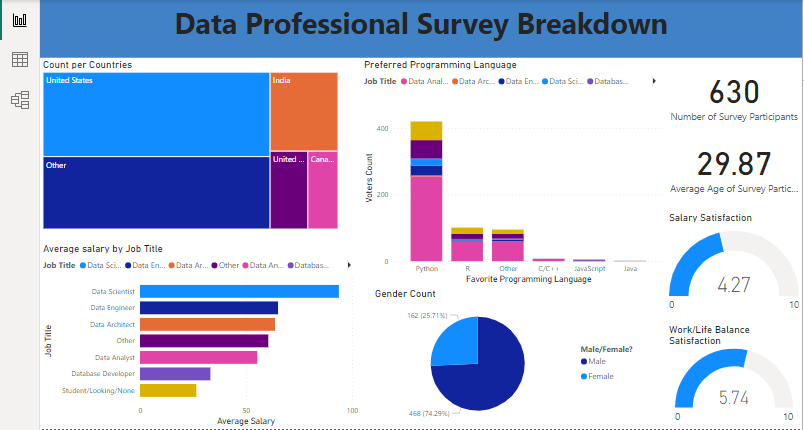

The page's visual inventory and layout, read from the dashboard file:
{"tool":"powerbi","page":{"name":"Page 1","canvas":[1280,720],"ordinal":0},"visuals":[{"type":"textbox","box":[0,0,1280,97.4],"z":0},{"type":"card","fields":{"Values":["Count(Data Professional Survey.Unique ID)"]},"box":[1051.5,97.4,228.5,120.9],"z":1000},{"type":"card","fields":{"Values":["Avg(Data Professional Survey.Q10 - Current Age)"]},"box":[1051.5,218.4,228.5,120.9],"z":2000},{"type":"barChart","title":"Average salary by Job Title","fields":{"Category":["Data Professional Survey.Q1 - Which Title Best Fits your Current Role?.1"],"Y":["Avg(Data Professional Survey.Average Salary)"],"Series":["Data Professional Survey.Q1 - Which Title Best Fits your Current Role?.1"]},"box":[0,406.5,539.2,314.1],"z":3000},{"type":"columnChart","title":"Preferred Programming Language","fields":{"Category":["Data Professional Survey.Q5 - Favorite Programming Language.1"],"Y":["CountNonNull(Data Professional Survey.Unique ID)"],"Series":["Data Professional Survey.Q1 - Which Title Best Fits your Current Role?.1"]},"box":[539.2,97.4,512.3,384.7],"z":4000},{"type":"treemap","title":"Count per Countries","fields":{"Values":["CountNonNull(Data Professional Survey.Q11 - Which Country do you live in?.1)"],"Group":["Data Professional Survey.Q11 - Which Country do you live in?.1"]},"box":[0,97.4,505.6,292.3],"z":5000},{"type":"gauge","title":"Work/Life Balance Satisfaction","fields":{"Y":["Avg(Data Professional Survey.Q6 - How Happy are you in your Current Position with the following? (Work/Life Balance))"],"MinValue":["Min(Data Professional Survey.Q6 - How Happy are you in your Current Position with the following? (Work/Life Balance))"],"MaxValue":["Max(Data Professional Survey.Q6 - How Happy are you in your Current Position with the following? (Work/Life Balance))"]},"box":[1051.5,542.6,228.5,178.1],"z":6000},{"type":"gauge","title":"Salary Satisfaction","fields":{"Y":["Avg(Data Professional Survey.Q6 - How Happy are you in your Current Position with the following? (Salary))"],"MinValue":["Min(Data Professional Survey.Q6 - How Happy are you in your Current Position with the following? (Salary))"],"MaxValue":["Max(Data Professional Survey.Q6 - How Happy are you in your Current Position with the following? (Salary))"]},"box":[1051.5,354.4,228.5,188.1],"z":7000},{"type":"pieChart","title":"Gender Count","fields":{"Category":["Data Professional Survey.Q9 - Male/Female?"],"Y":["Count(Data Professional Survey.Unique ID)"]},"box":[557.7,482.1,460.3,238.5],"z":8000}]}

Visuals, with their boxes on the page's 1280x720 design canvas (x1, y1, x2, y2). These are canvas units, not pixel positions in the 804x430 screenshot, which may show the page scaled, cropped or inside an application window:
textbox: region(0, 0, 1280, 97)
card - Count(Data Professional Survey.Unique ID): region(1052, 97, 1280, 218)
card - Avg(Data Professional Survey.Q10 - Current Age): region(1052, 218, 1280, 339)
"Average salary by Job Title" barChart: region(0, 406, 539, 721)
"Preferred Programming Language" columnChart: region(539, 97, 1052, 482)
"Count per Countries" treemap: region(0, 97, 506, 390)
"Work/Life Balance Satisfaction" gauge: region(1052, 543, 1280, 721)
"Salary Satisfaction" gauge: region(1052, 354, 1280, 542)
"Gender Count" pieChart: region(558, 482, 1018, 721)
